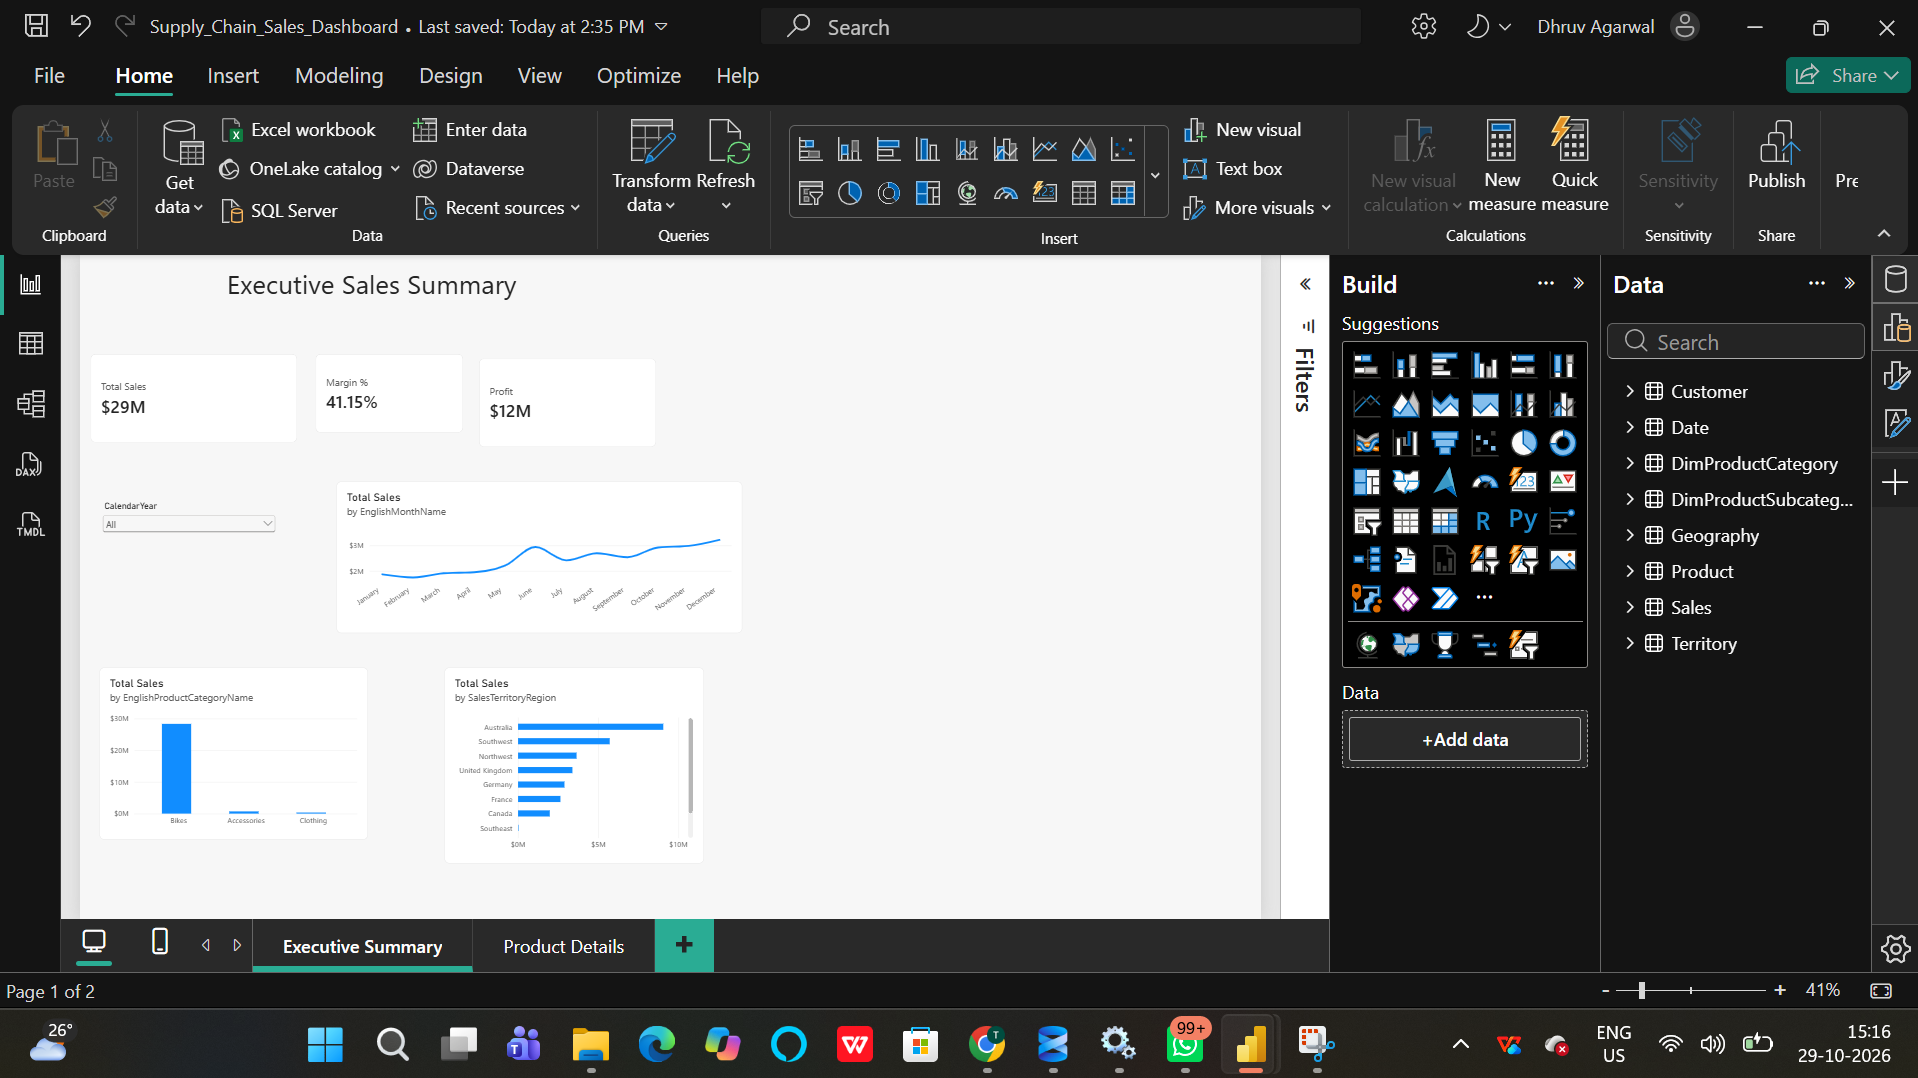

What the dashboard file says about the page in this screenshot:
{"tool":"powerbi","page":{"name":"Executive Summary","canvas":[1920,1080],"ordinal":0},"visuals":[{"type":"cardVisual","fields":{"Data":["Sales.Margin %"]},"box":[384,160,240,128],"z":0},{"type":"cardVisual","fields":{"Data":["Sales.Profit"]},"box":[648,168,288,144],"z":1000},{"type":"cardVisual","fields":{"Data":["Sales.Total Sales"]},"box":[16,160,336,144],"z":2000},{"type":"slicer","fields":{"Values":["Date.CalendarYear"]},"box":[32,400,291.2,140],"z":3000},{"type":"lineChart","fields":{"Category":["Date.EnglishMonthName"],"Y":["Sales.Total Sales"]},"box":[416,368,660,246.7],"z":4000},{"type":"clusteredBarChart","fields":{"Category":["Territory.SalesTerritoryRegion"],"Y":["Sales.Total Sales"]},"box":[592,672,421.7,318.3],"z":5000},{"type":"textbox","box":[96,14,150,192],"z":6000},{"type":"textbox","box":[240,24,768,96],"z":7000},{"type":"clusteredColumnChart","fields":{"Category":["Product.EnglishProductCategoryName"],"Y":["Sales.Total Sales"]},"box":[1128,216,672,600],"z":8000}]}

Visuals, with their boxes on the page's 1920x1080 design canvas (x1, y1, x2, y2). These are canvas units, not pixel positions in the 1918x1078 screenshot, which may show the page scaled, cropped or inside an application window:
cardVisual - Sales.Margin %: (x1=384, y1=160, x2=624, y2=288)
cardVisual - Sales.Profit: (x1=648, y1=168, x2=936, y2=312)
cardVisual - Sales.Total Sales: (x1=16, y1=160, x2=352, y2=304)
slicer - Date.CalendarYear: (x1=32, y1=400, x2=323, y2=540)
lineChart - Date.EnglishMonthName x Sales.Total Sales: (x1=416, y1=368, x2=1076, y2=615)
clusteredBarChart - Territory.SalesTerritoryRegion x Sales.Total Sales: (x1=592, y1=672, x2=1014, y2=990)
textbox: (x1=96, y1=14, x2=246, y2=206)
textbox: (x1=240, y1=24, x2=1008, y2=120)
clusteredColumnChart - Product.EnglishProductCategoryName x Sales.Total Sales: (x1=1128, y1=216, x2=1800, y2=816)
